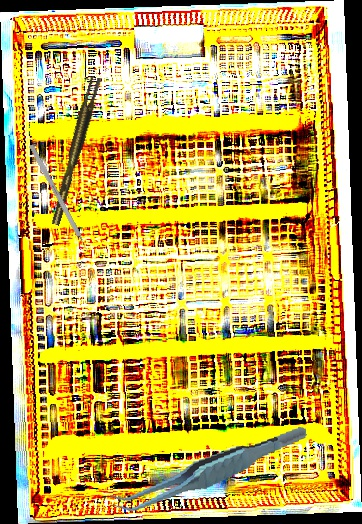Hook Surgical: (28, 143, 94, 260)
Tissue Forceps: (103, 424, 315, 516), (43, 75, 107, 226)
